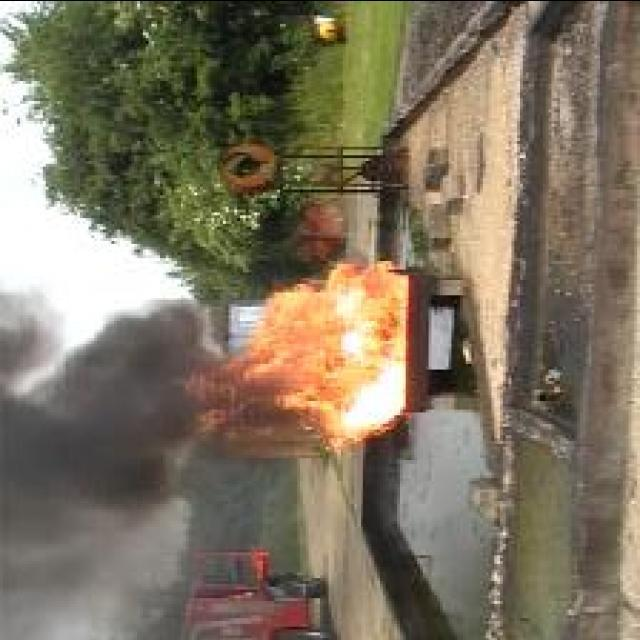Fire: (178, 260, 406, 454)
